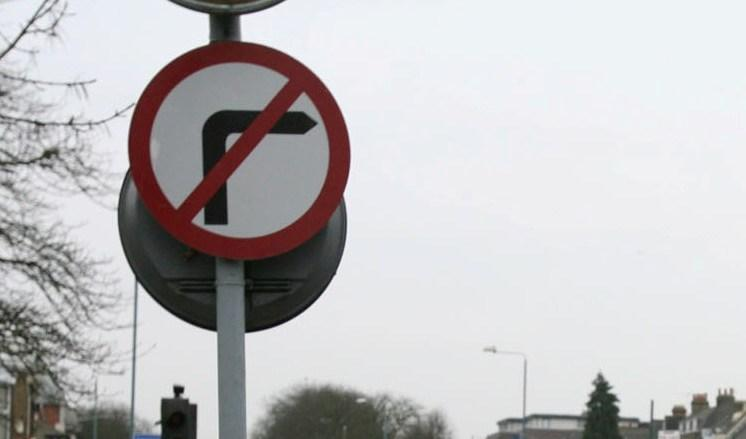No_right_turn: (128, 42, 352, 259)
